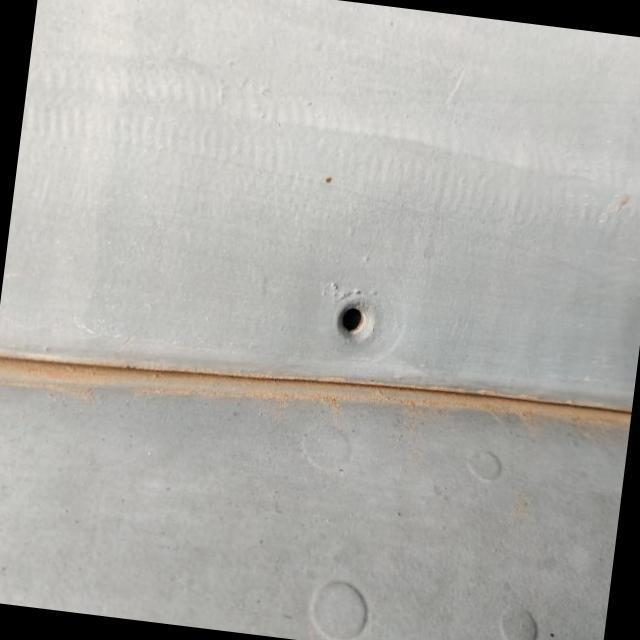Missing Fastener: (324, 282, 392, 354)
